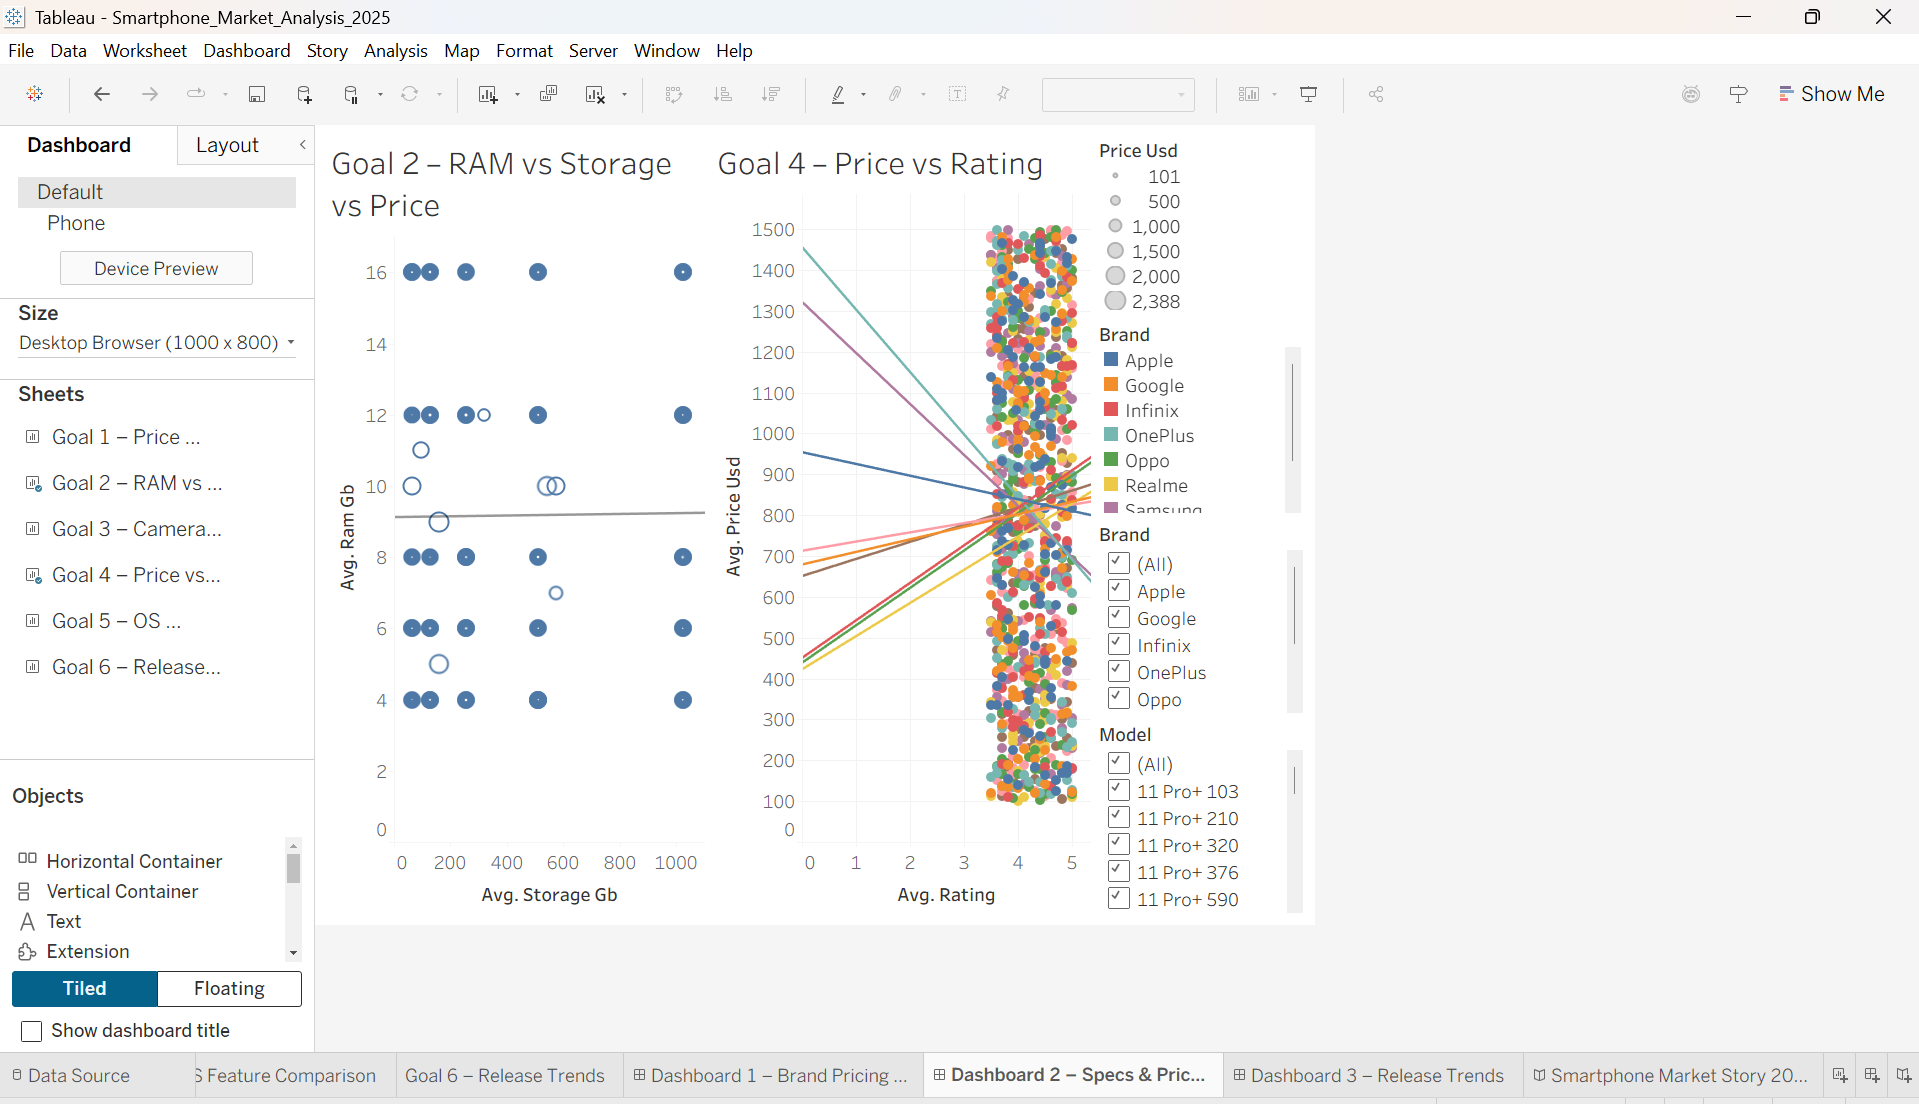

What the dashboard file says about the page in this screenshot:
{"tool":"tableau","page":{"name":"Dashboard 2 – Specs & Price Relationships","canvas":[1000,800],"ordinal":1},"visuals":[{"type":"worksheet","title":"Goal 2 – RAM vs Storage vs Price","mark":"Automatic","rows":["ram_gb"],"cols":["storage_gb"],"box":[8,8,386,784]},{"type":"worksheet","title":"Goal 4 – Price vs Rating","mark":"Circle","rows":["price_usd"],"cols":["rating"],"box":[394,8,386,784]},{"type":"legend","title":"Goal 2 – RAM vs Storage vs Price","param":"[federated.0kggtna03bu2wg19w123r0m4o8ir].[sum:price_usd:qk]","box":[780,8,212,184]},{"type":"legend","title":"Goal 4 – Price vs Rating","param":"[federated.0kggtna03bu2wg19w123r0m4o8ir].[none:brand:nk]","box":[780,192,212,200]},{"type":"filter","title":"Goal 2 – RAM vs Storage vs Price","param":"[federated.0kggtna03bu2wg19w123r0m4o8ir].[none:brand:nk]","box":[780,392,212,200]},{"type":"filter","title":"Goal 2 – RAM vs Storage vs Price","param":"[federated.0kggtna03bu2wg19w123r0m4o8ir].[none:model:nk]","box":[780,592,212,200]}]}

Visuals, with their boxes on the page's 1000x800 design canvas (x1, y1, x2, y2). These are canvas units, not pixel positions in the 1919x1104 screenshot, which may show the page scaled, cropped or inside an application window:
"Goal 2 – RAM vs Storage vs Price" worksheet: 8 8 394 792
"Goal 4 – Price vs Rating" worksheet (Circle marks): 394 8 780 792
"Goal 2 – RAM vs Storage vs Price" legend: 780 8 992 192
"Goal 4 – Price vs Rating" legend: 780 192 992 392
"Goal 2 – RAM vs Storage vs Price" filter: 780 392 992 592
"Goal 2 – RAM vs Storage vs Price" filter: 780 592 992 792
